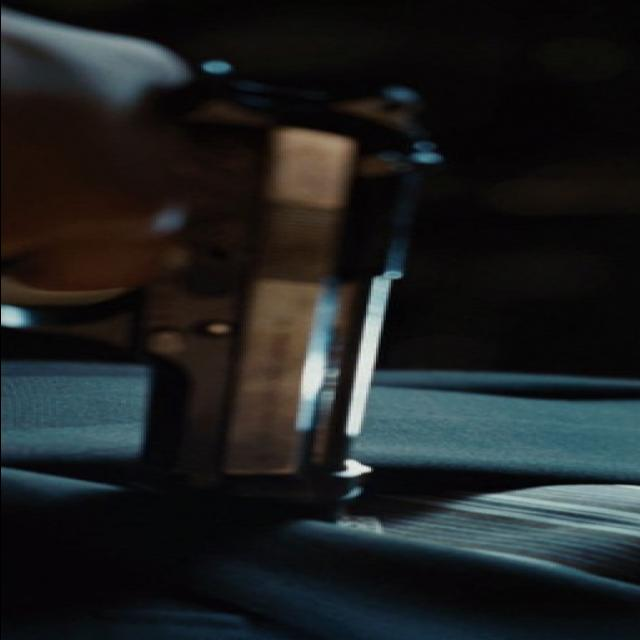weapons: (0, 46, 511, 514)
